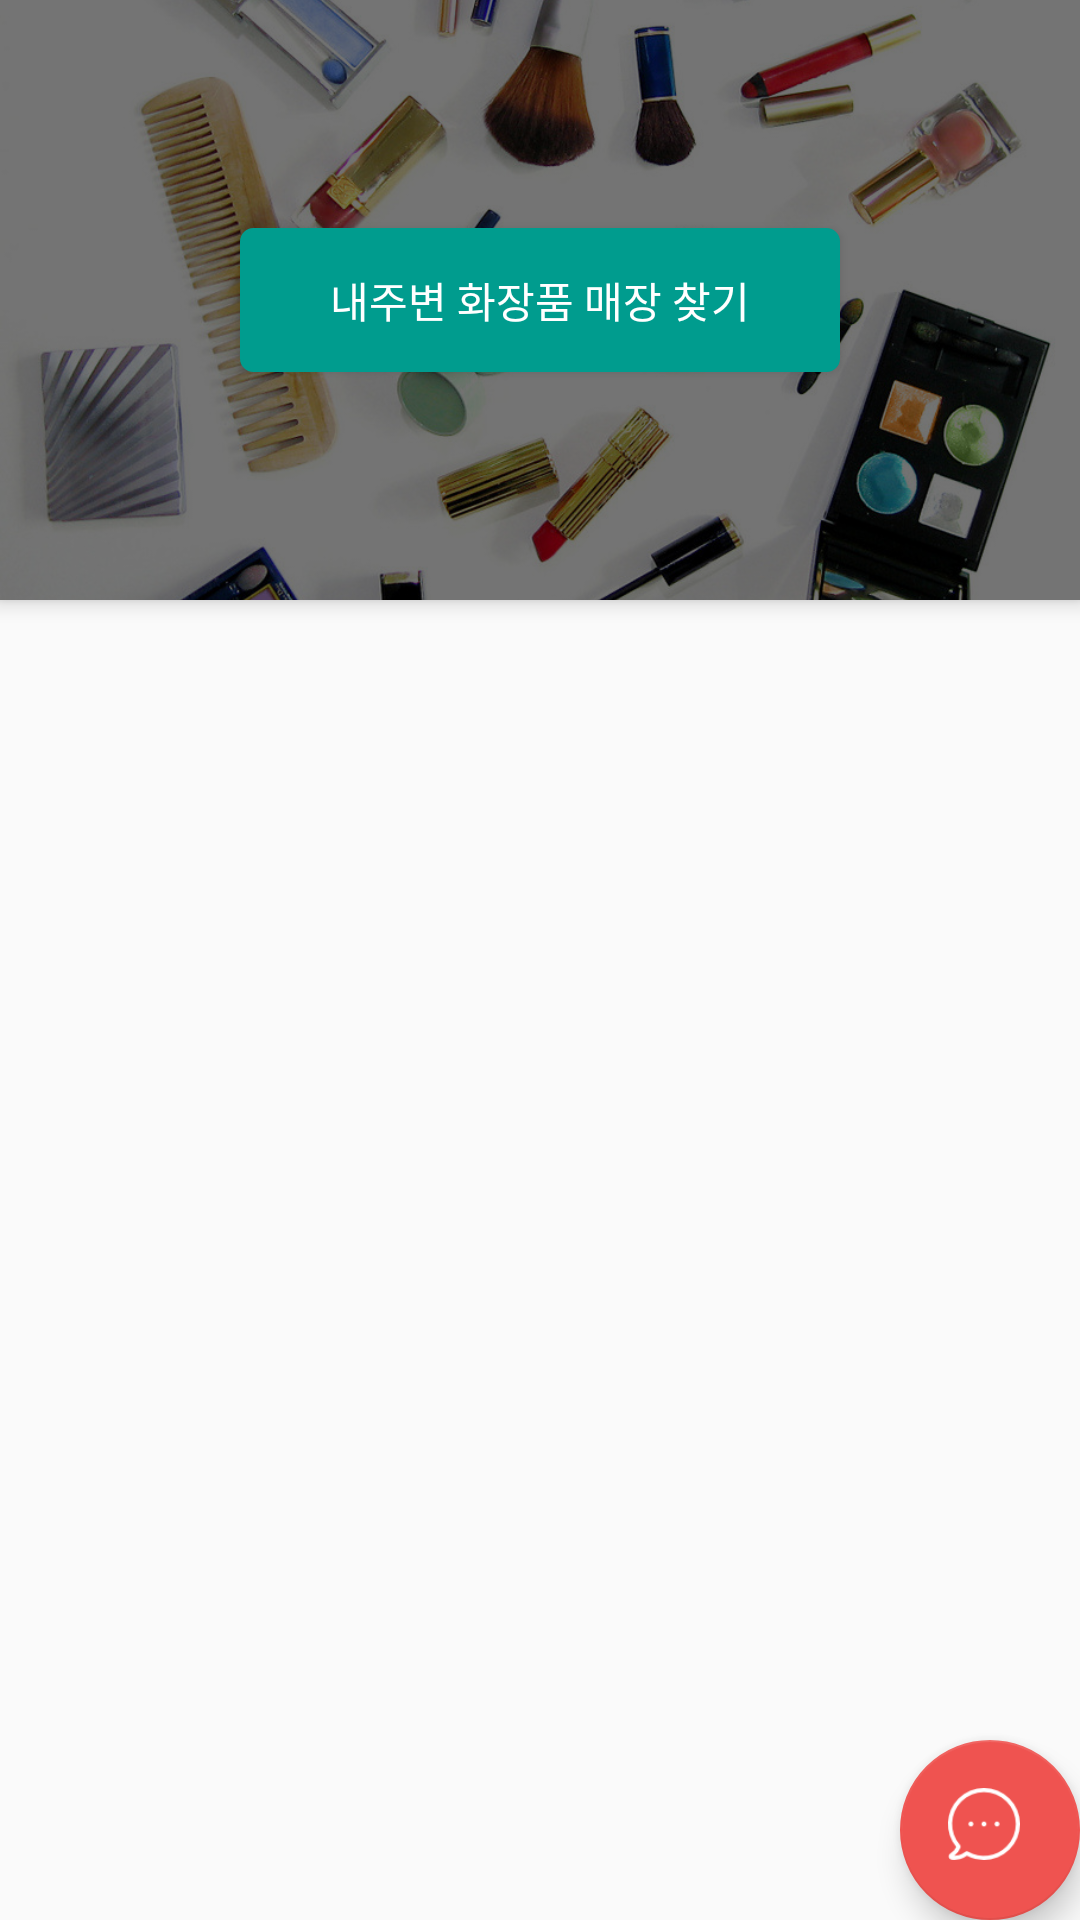

Where to tap for icons on this 1080px x 1920px app screen, as point (x, y):
chat: point (990, 1830)
